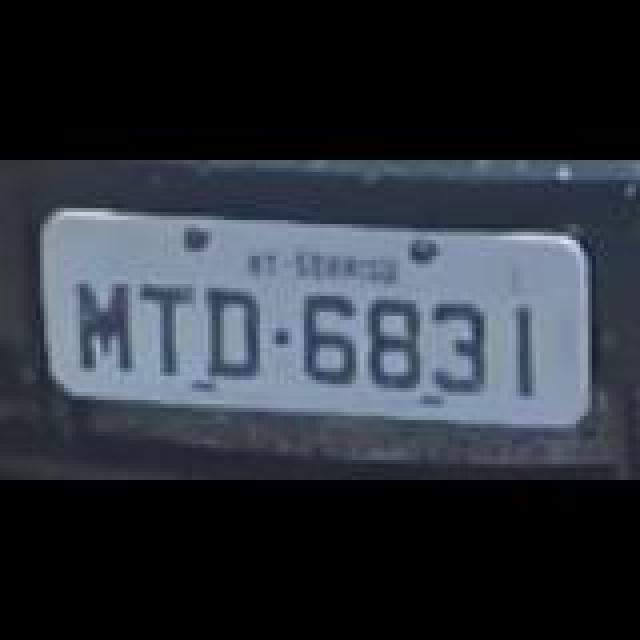1: (514, 306, 542, 398)
3: (430, 302, 490, 394)
6: (300, 294, 364, 386)
8: (366, 298, 426, 390)
D: (204, 286, 268, 378)
M: (72, 280, 136, 376)
T: (138, 280, 198, 376)
